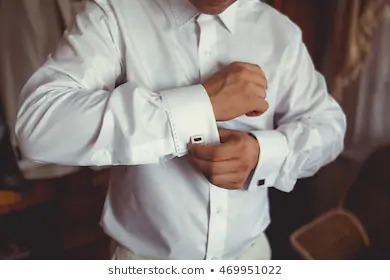F_shirt: (11, 1, 345, 254)
